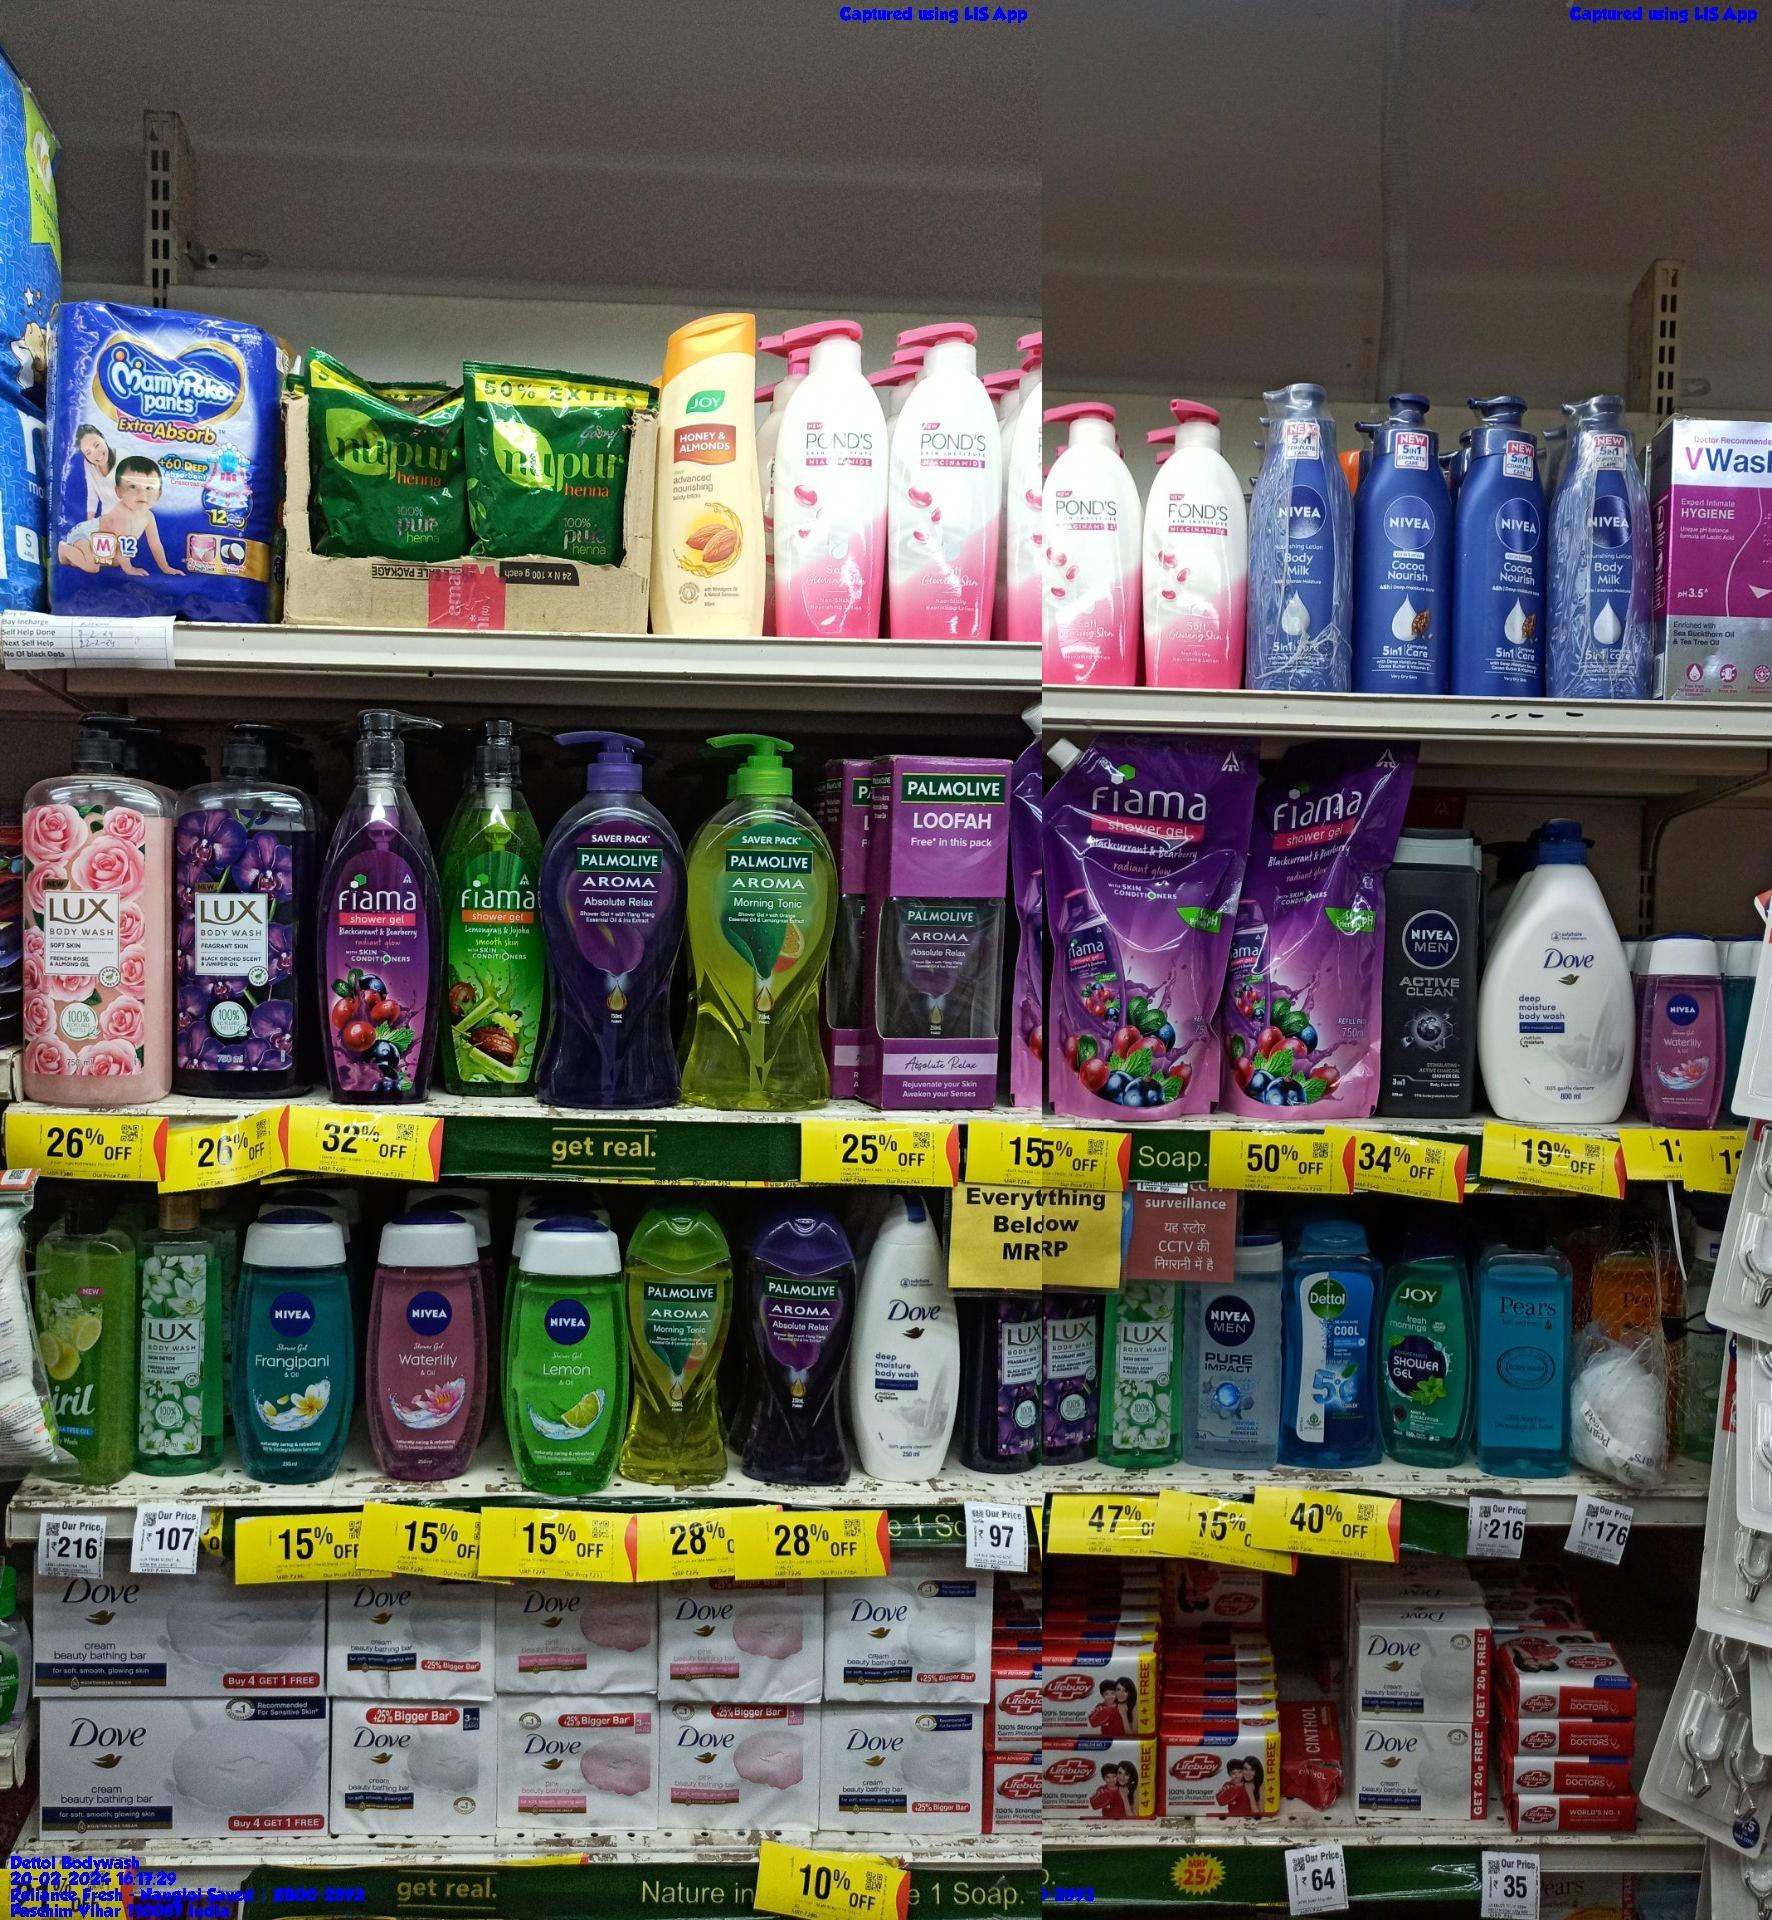Dettol_Bodywash_Cool: (1286, 1236, 1388, 1467)
Dove_Deep_Moisture_Body_Wash_250ML: (858, 1192, 953, 1475)
Joy_Shower_Gel_Mint_and_Eucalyptus_250ML: (1398, 1229, 1468, 1470)
Lux_Black_Orchid_Scent_and_Juniper_Oil_Body_Wash_245ML: (973, 1288, 1041, 1465), (1048, 1294, 1098, 1470)
Lux_Body_Wash_Skin_Detox_Freesia_Scent_and_Alove_Vera_245ML: (140, 1191, 224, 1475), (1107, 1294, 1179, 1465)
Nivea_Shower_Gel_Frangipani_and_Oil_250ML: (234, 1229, 356, 1480)
Nivea_Shower_Gel_Lemon_and_Oil_250ML: (508, 1218, 627, 1492)
Nivea_Shower_Gel_Waterlily_and_Oil_250ML: (368, 1229, 481, 1483)
Palmolive_Aroma_Morning_Tonic_Shower_Gel_250ML: (637, 1211, 732, 1490)
Palmolive_Aroma_Relax_250ML: (741, 1211, 846, 1494)
Pears_Pure_Glycerin_and_Mint_Extracts_Body_Wash_250ML: (1474, 1208, 1568, 1487)
